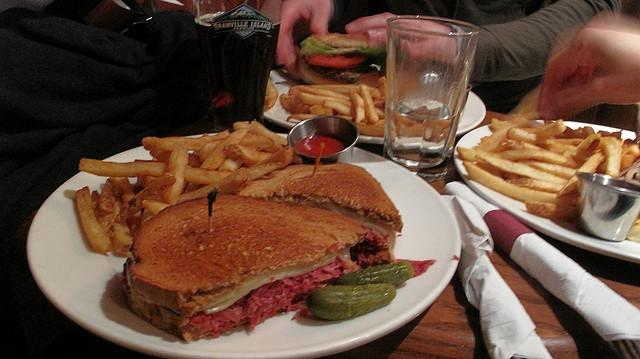tomato: (306, 54, 372, 70)
